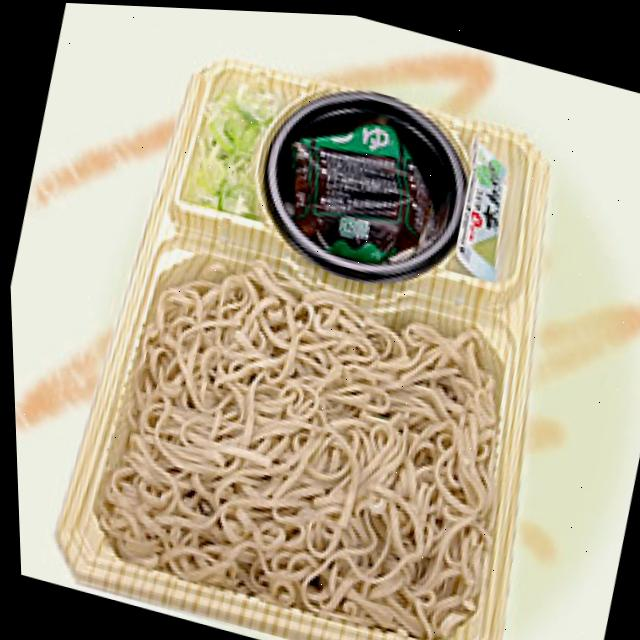面条主食: (28, 195, 585, 640)
